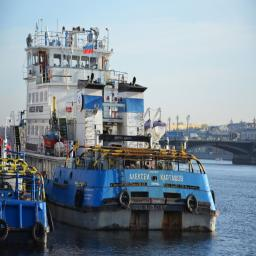tugboat: (8, 18, 222, 240)
